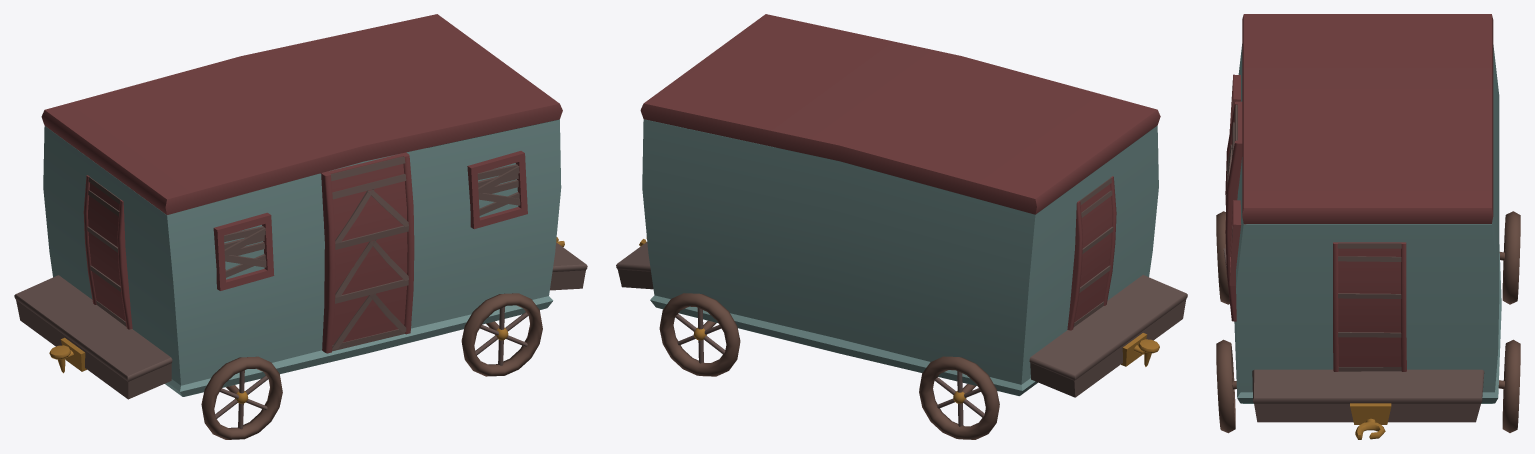
The model's file is Carriage2.fbx.
3 renders of one model, left to right at view 1: azimuth 30°, elevation 25°; view 2: azimuth 150°, elevation 25°; view 3: azimuth 270°, elevation 25°, orthographic.
Parts seen in each view (by area): view 1: Body, Roof, Door (×2), platform6, Wheel08 (×2), WindowFrame9 (×2), platform7, Planl11, Planl7, Planl8, Planl9; view 2: Body, Roof, platform6, Wheel07 (×2), Door, platform7; view 3: Roof, Body, platform7, Door (×2), Wheel07 (×2), Wheel08 (×2), WindowFrame9 (×2), pCube5, Planl11, Planl9, Planl7, pTorus1 (+2 smaller).
Part boxes in pixels (x1,y1,x2,y2): Body: [43, 119, 561, 396]; Roof: [41, 14, 562, 214]; Door (×2): [83, 152, 414, 353]; platform6: [14, 275, 172, 399]; Wheel08 (×2): [201, 293, 542, 439]; WindowFrame9 (×2): [213, 151, 527, 290]; platform7: [550, 242, 587, 290]; Planl11: [330, 156, 405, 181]; Planl7: [332, 174, 406, 199]; Planl8: [335, 225, 408, 249]; Planl9: [335, 279, 408, 303]; Body: [642, 119, 1158, 396]; Roof: [640, 14, 1160, 214]; platform6: [1029, 275, 1187, 397]; Wheel07 (×2): [659, 293, 999, 439]; Door: [1067, 176, 1116, 330]; platform7: [616, 242, 653, 289]; Roof: [1242, 14, 1493, 223]; Body: [1234, 44, 1501, 403]; platform7: [1252, 369, 1484, 422]; Door (×2): [1225, 101, 1406, 371]; Wheel07 (×2): [1502, 211, 1520, 432]; Wheel08 (×2): [1216, 211, 1235, 433]; WindowFrame9 (×2): [1229, 74, 1245, 285]; pCube5: [1350, 403, 1391, 424]; Planl11: [1337, 243, 1401, 248]; Planl9: [1337, 332, 1401, 337]; Planl7: [1338, 256, 1401, 261]; pTorus1: [1355, 422, 1385, 439].
Size of the model in its own units: 38.64 by 18.45 by 19.63.
